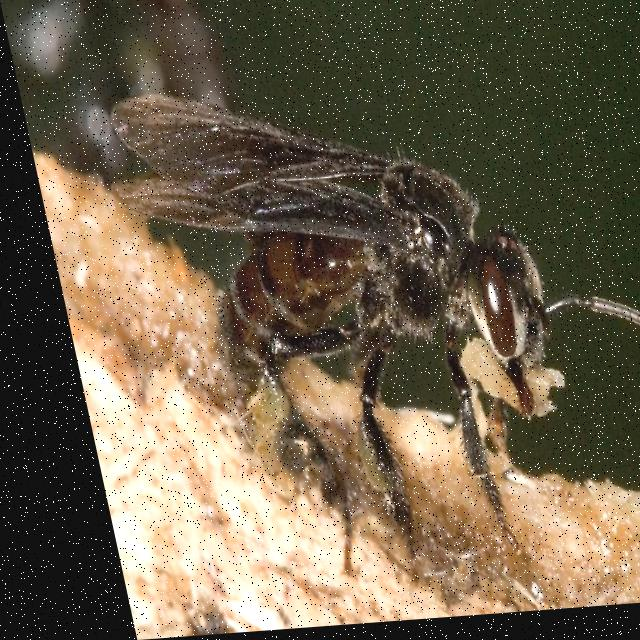Lasioglossum: (80, 60, 640, 584)
